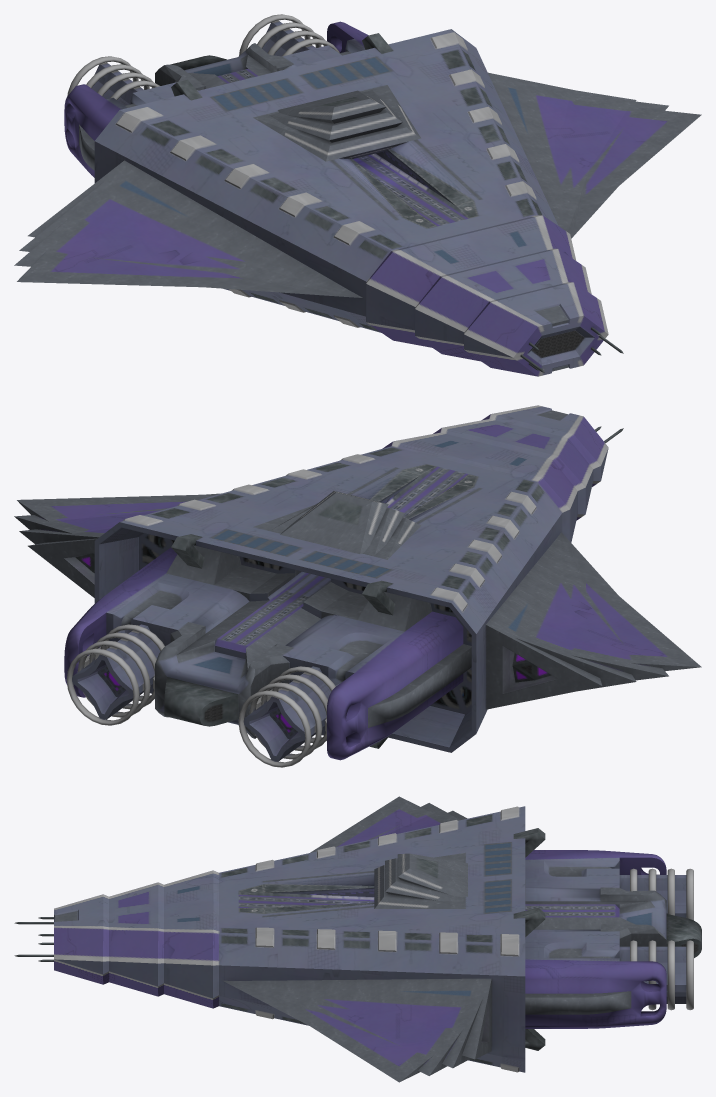
File: hippocrates.obj
The picture shows the model from 3 angles, top to bottom: view 1: azimuth 30°, elevation 25°; view 2: azimuth 150°, elevation 25°; view 3: azimuth 270°, elevation 25°; orthographic projection. The views are drawn at different scales.
Visible parts, largest first — view 1: MeshLP_Cube.011; view 2: MeshLP_Cube.011; view 3: MeshLP_Cube.011.
Part boxes in pixels (bbox=[...]): MeshLP_Cube.011: bbox=[14, 14, 701, 376]; MeshLP_Cube.011: bbox=[14, 405, 701, 767]; MeshLP_Cube.011: bbox=[14, 796, 701, 1082].
Bounding box in the file's own units: 14.37 × 3.65 × 14.6.
1 material, 1 textured.
